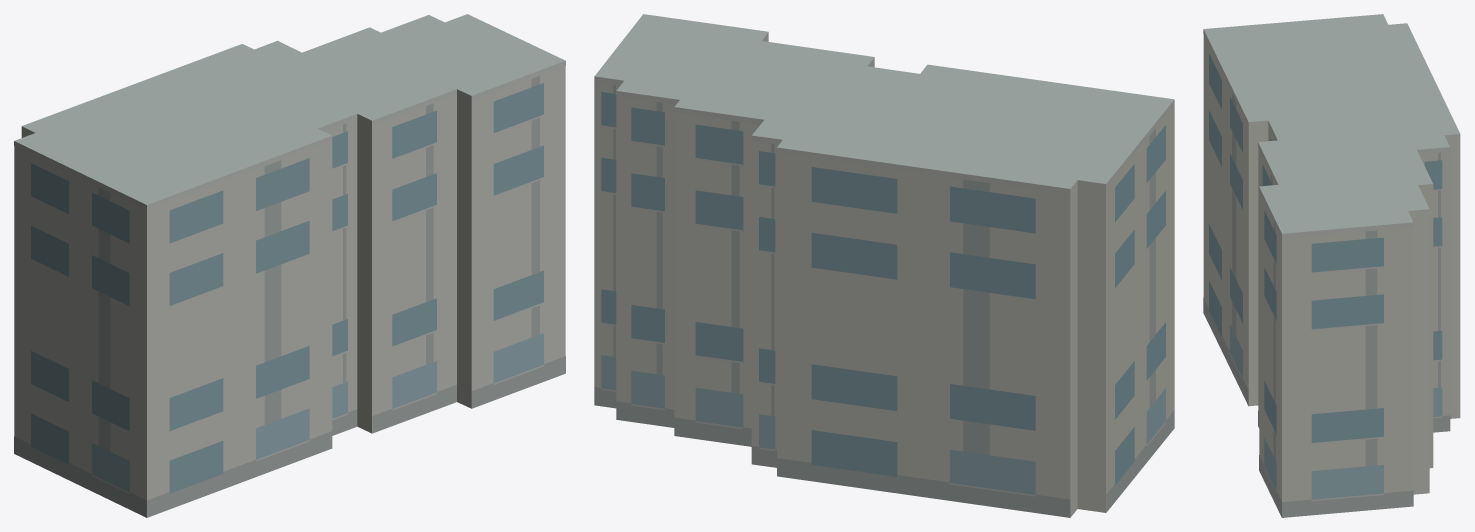
The model's file is survey-upis-33021589.glb.
The picture shows the model from 3 angles, left to right: view 1: azimuth 30°, elevation 25°; view 2: azimuth 150°, elevation 25°; view 3: azimuth 270°, elevation 25°; orthographic projection. The views are drawn at different scales.
Parts seen in each view (by area): view 1: survey-upis-33021589.tmp; view 2: survey-upis-33021589.tmp; view 3: survey-upis-33021589.tmp.
Boxes of the visible parts, box(x1,y1,x2,y2) form: survey-upis-33021589.tmp: box(14, 14, 565, 517); survey-upis-33021589.tmp: box(594, 14, 1174, 517); survey-upis-33021589.tmp: box(1203, 14, 1460, 517).
Size of the model in its own units: 23.74 by 14.3 by 11.73.
